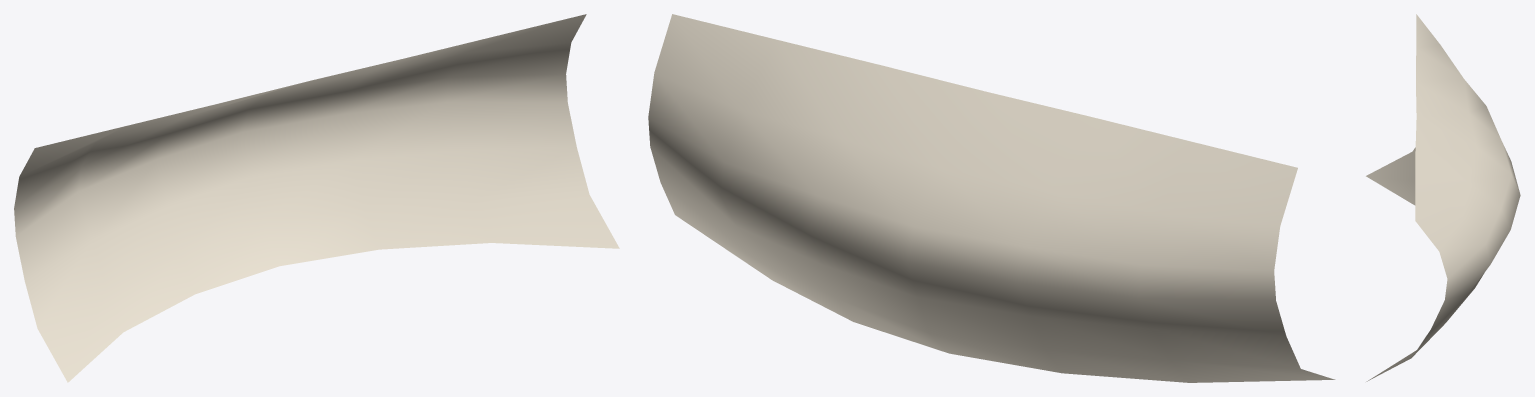
Rendered from sloop-sail-reduced.glb.
3 views of the same model, side by side, from view 1: azimuth 30°, elevation 25°; view 2: azimuth 150°, elevation 25°; view 3: azimuth 270°, elevation 25° (orthographic). The views are drawn at different scales.
Visible parts, largest first — view 1: Plane.001; view 2: Plane.001; view 3: Plane.001.
Part boxes in pixels (box(x1,y1,x2,y2)): Plane.001: box(14, 14, 619, 382); Plane.001: box(648, 14, 1335, 382); Plane.001: box(1366, 14, 1520, 381).
Bounding box in the file's own units: 6.85 × 2.5 × 2.18.
